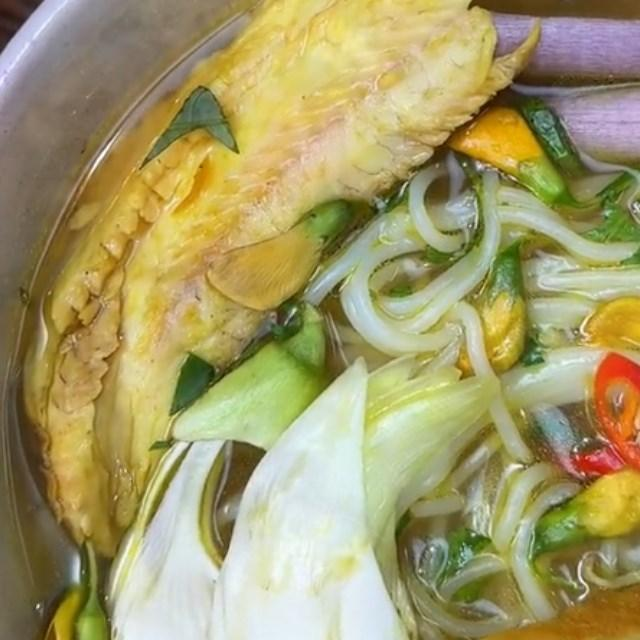bun: (281, 135, 640, 640)
bun ca: (0, 0, 640, 640)
ca: (17, 0, 549, 558)
